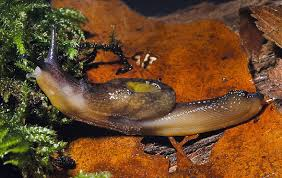slug: (26, 26, 266, 134)
